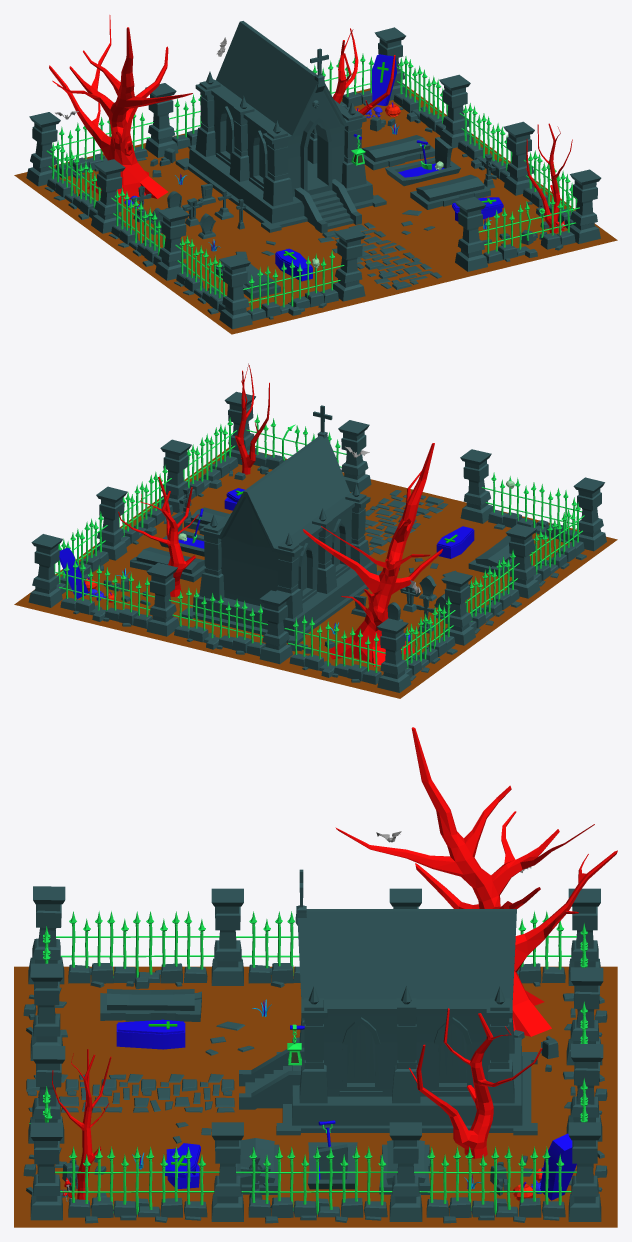
File: GraveYard.fbx
3 views of the same model, one above another, from view 1: azimuth 30°, elevation 25°; view 2: azimuth 150°, elevation 25°; view 3: azimuth 270°, elevation 25° (orthographic). The views are drawn at different scales.
Visible parts, largest first — view 1: Plane001, Crypt, DeadTree, Column (×2), FenceSection, Tiles001, FenceSection002, FenceSection017, FenceSection009, FenceSection018, FenceSection010, FenceSection019 (+22 smaller); view 2: Crypt, Plane001, DeadTree, Column (×2), FenceSection015, FenceSection014, FenceSection013, FenceSection, FenceSection019, FenceSection017, FenceSection018, FenceSection011 (+22 smaller); view 3: Plane001, Crypt, DeadTree, FenceSection009, FenceSection010, FenceSection011, FenceSection019, Tiles001, Column (×2), DeadTree3, Grave_003, Column010 (+17 smaller).
Boxes of the visible parts, x1=… form: Plane001: x1=14, y1=83, x2=617, y2=334; Crypt: x1=175, y1=21, x2=386, y2=233; DeadTree: x1=49, y1=15, x2=192, y2=203; Column (×2): x1=219, y1=227, x2=365, y2=329; FenceSection: x1=243, y1=250, x2=344, y2=321; Tiles001: x1=318, y1=222, x2=441, y2=289; FenceSection002: x1=478, y1=192, x2=579, y2=263; FenceSection017: x1=44, y1=140, x2=101, y2=219; FenceSection009: x1=393, y1=56, x2=448, y2=135; FenceSection018: x1=108, y1=187, x2=165, y2=266; FenceSection010: x1=458, y1=103, x2=512, y2=182; FenceSection019: x1=174, y1=235, x2=227, y2=314; Crypt: x1=181, y1=405, x2=381, y2=644; Plane001: x1=14, y1=446, x2=617, y2=698; DeadTree: x1=303, y1=443, x2=442, y2=666; Column (×2): x1=460, y1=449, x2=606, y2=551; FenceSection015: x1=284, y1=615, x2=385, y2=684; FenceSection014: x1=169, y1=586, x2=267, y2=656; FenceSection013: x1=55, y1=559, x2=154, y2=628; FenceSection: x1=481, y1=472, x2=581, y2=543; FenceSection019: x1=529, y1=502, x2=586, y2=586; FenceSection017: x1=401, y1=596, x2=457, y2=680; FenceSection018: x1=465, y1=550, x2=521, y2=633; FenceSection011: x1=183, y1=417, x2=238, y2=499; Plane001: x1=14, y1=966, x2=617, y2=1227; Crypt: x1=239, y1=869, x2=537, y2=1135; DeadTree: x1=335, y1=727, x2=617, y2=1036; FenceSection009: x1=414, y1=1146, x2=576, y2=1223; FenceSection010: x1=236, y1=1146, x2=397, y2=1223; FenceSection011: x1=55, y1=1146, x2=219, y2=1223; FenceSection019: x1=56, y1=911, x2=219, y2=988; Tiles001: x1=26, y1=1073, x2=234, y2=1112; Column (×2): x1=28, y1=886, x2=65, y2=1060; DeadTree3: x1=409, y1=1008, x2=542, y2=1158; Grave_003: x1=100, y1=989, x2=201, y2=1021; Column010: x1=568, y1=1122, x2=601, y2=1221.
Size of the model in its own units: 1046 by 497 by 1022.
